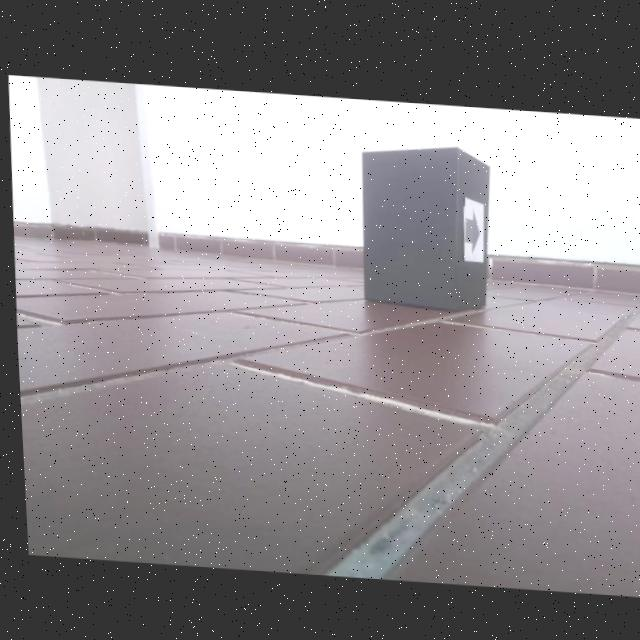RIGHT: (462, 202, 479, 249)
